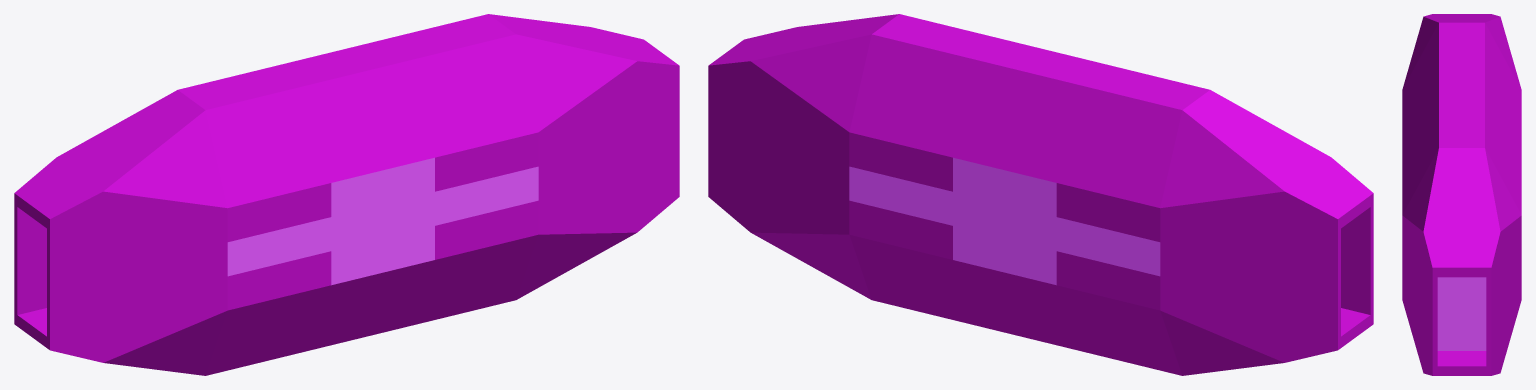
The model's file is paddle v2.fbx.
The picture shows the model from 3 angles, left to right: view 1: azimuth 30°, elevation 25°; view 2: azimuth 150°, elevation 25°; view 3: azimuth 270°, elevation 25°; orthographic projection. The views are drawn at different scales.
Visible parts, largest first — view 1: Cube; view 2: Cube; view 3: Cube.
Part boxes in pixels (box(x1,y1,x2,y2)): Cube: box(14, 14, 679, 375); Cube: box(708, 14, 1373, 375); Cube: box(1402, 14, 1521, 375).
Size of the model in its own units: 502 by 203 by 99.96.
